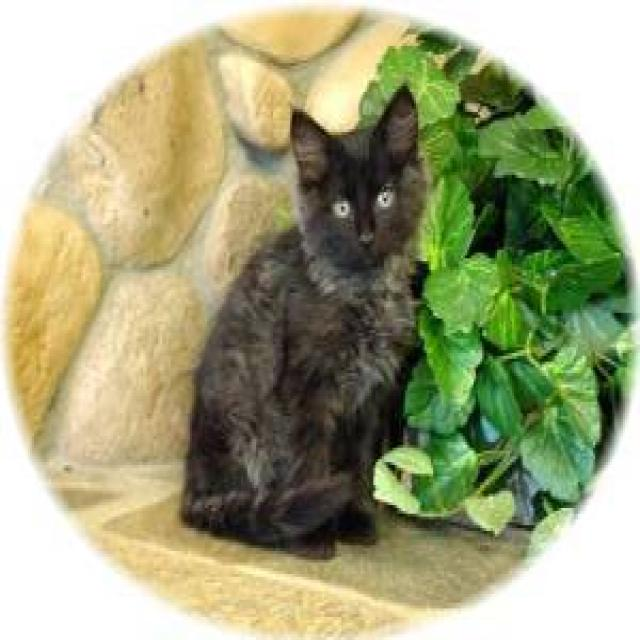cat: (179, 80, 429, 560)
